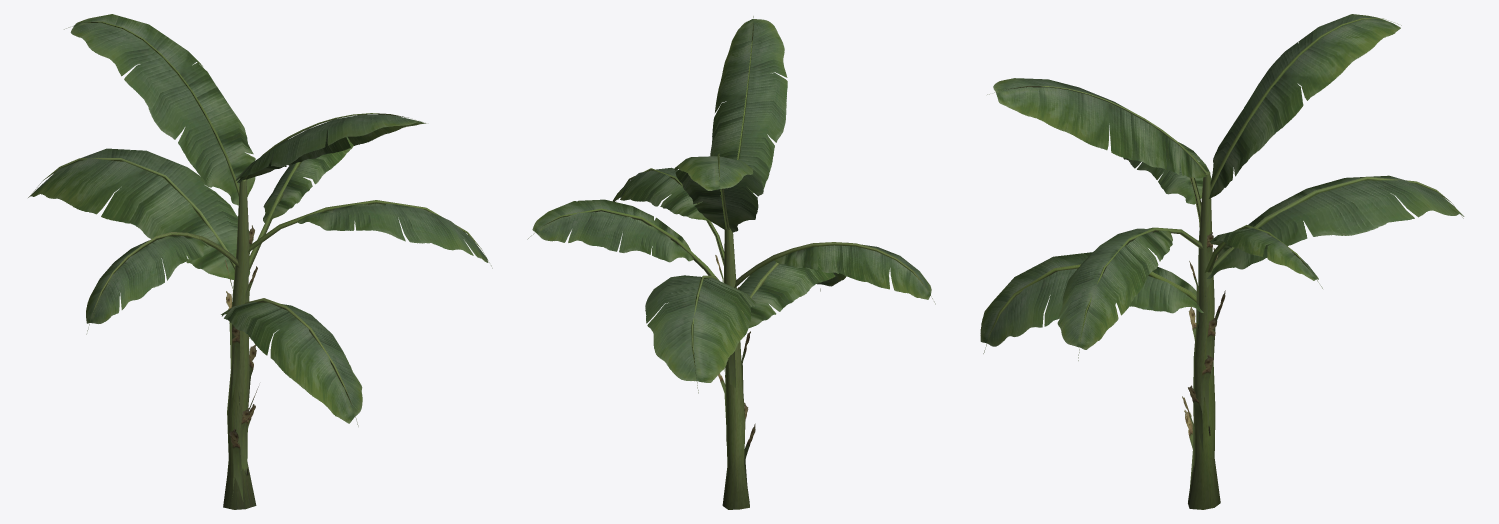
Rendered from Musa_Acuminata_Spring_Young.glb.
The picture shows the model from 3 angles, left to right: view 1: azimuth 30°, elevation 25°; view 2: azimuth 150°, elevation 25°; view 3: azimuth 270°, elevation 25°; orthographic projection. The views are drawn at different scales.
Parts seen in each view (by area): view 1: Musa_Acuminata_Spring_Young__LOD3; view 2: Musa_Acuminata_Spring_Young__LOD3; view 3: Musa_Acuminata_Spring_Young__LOD3.
Boxes of the visible parts, left/top/right/bottom form: Musa_Acuminata_Spring_Young__LOD3: left=28, top=14, right=492, bottom=509; Musa_Acuminata_Spring_Young__LOD3: left=527, top=16, right=935, bottom=509; Musa_Acuminata_Spring_Young__LOD3: left=980, top=14, right=1464, bottom=509.
Bounding box in the file's own units: 2.06 × 2.29 × 2.35.
Materials: 2 (2 with a texture image).
